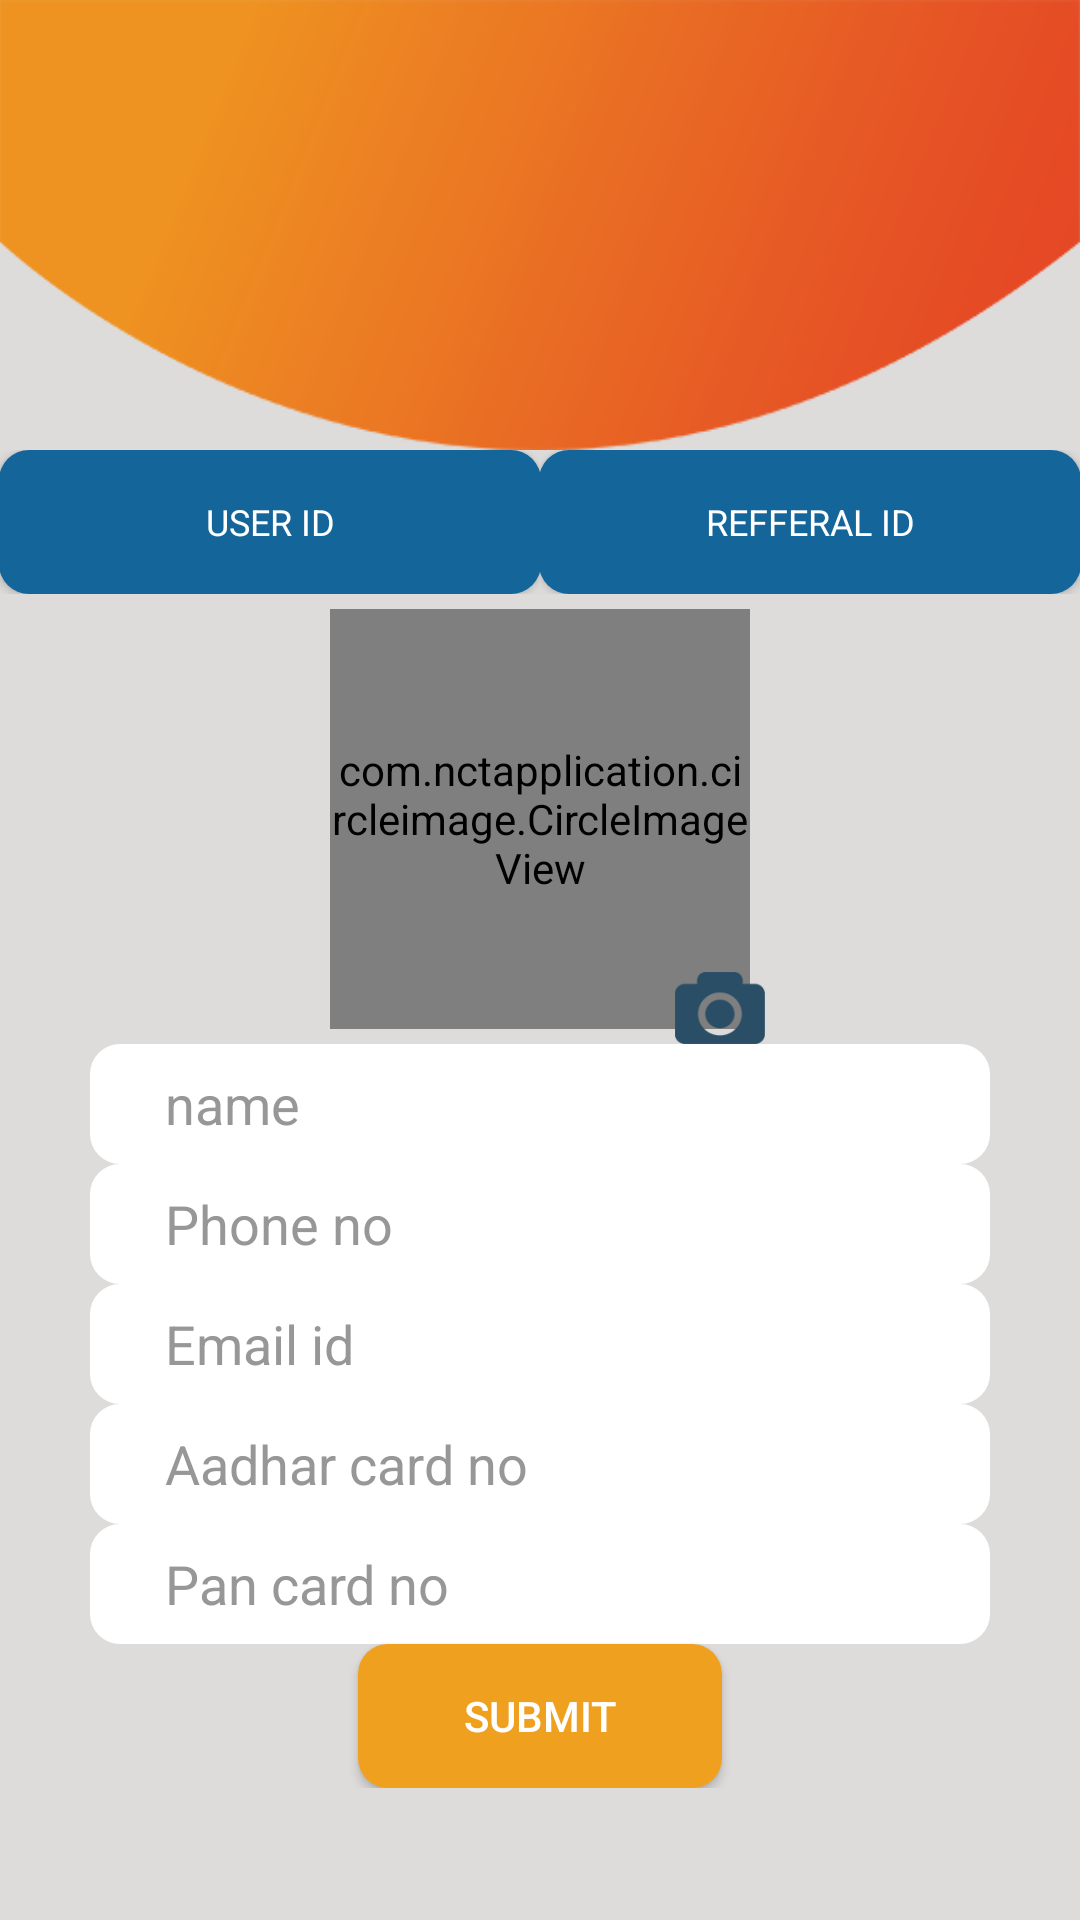

Point at icon controls on the screen. Image size 1080×1920, points as (x,y).
camera: (720,1008)
